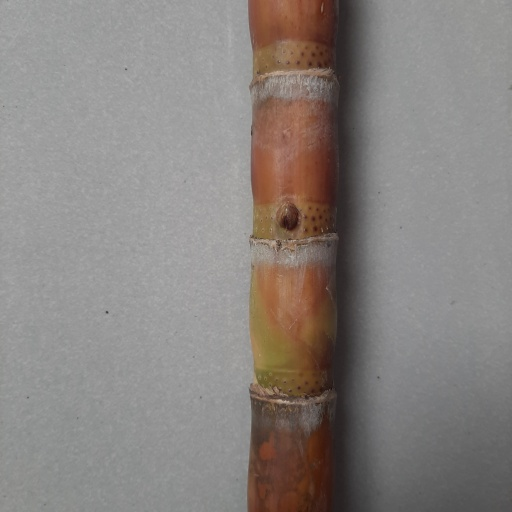Bud: (275, 201, 300, 234)
